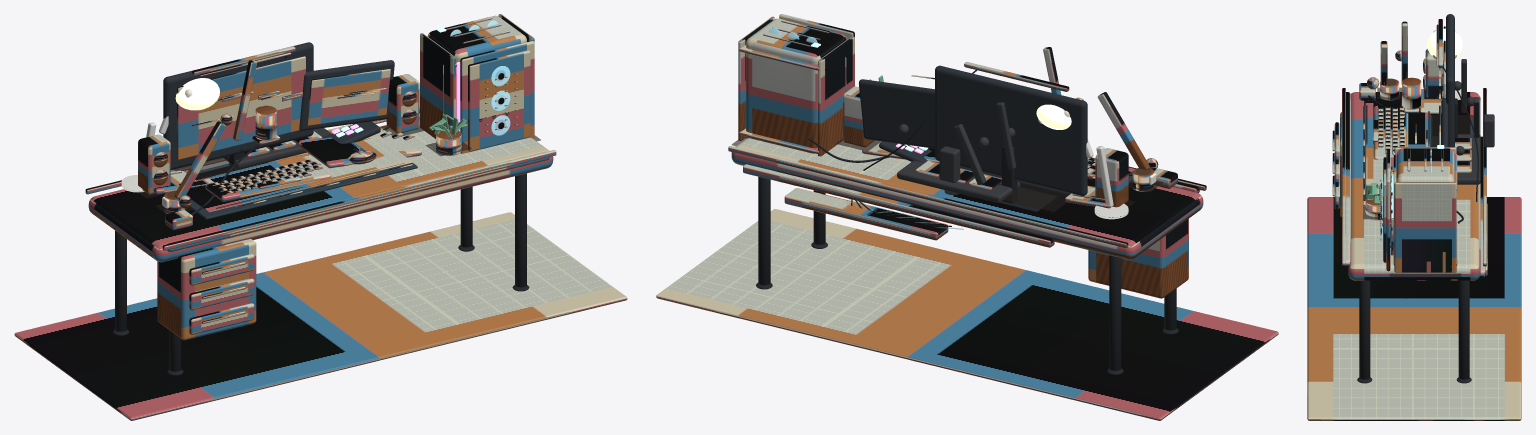
File: p2s_premium_workstation_hero_v4.glb
3 renders of one model, left to right at view 1: azimuth 30°, elevation 25°; view 2: azimuth 150°, elevation 25°; view 3: azimuth 270°, elevation 25°, orthographic. The views are drawn at different scales.
Parts seen in each view (by area): view 1: premium_workstation_v2_preview_floor_shadow_catcher, premium_workstation_oiled_oak_waterfall_top, premium_workstation_main_monitor_inner_screen, premium_workstation_left_lacquer_drawer_carcase, premium_workstation_v3_pc_front_deep_mesh_insert, premium_workstation_side_display_blue_screen, premium_workstation_v3_deskmat_top_charcoal_overlay, premium_workstation_main_monitor_outer_shell, premium_workstation_v2_pc_case_vertical_frame_0.94, premium_workstation_v2_oak_end_grain_band_0.51, premium_workstation_white_pc_case_body, premium_workstation_side_display_keyboard_deck (+22 smaller); view 2: premium_workstation_v2_preview_floor_shadow_catcher, premium_workstation_oiled_oak_waterfall_top, premium_workstation_main_monitor_outer_shell, premium_workstation_white_pc_case_body, premium_workstation_side_display_shell, premium_workstation_left_lacquer_drawer_carcase, premium_workstation_rear_black_cable_raceway, premium_workstation_v2_pc_case_vertical_frame_0.94, premium_workstation_v2_underdesk_mesh_cable_tray, premium_workstation_v2_oak_end_grain_band_-0.51, premium_workstation_v2_aluminum_monitor_riser_shelf, premium_workstation_tapered_black_steel_leg_-1.32_-0.36 (+12 smaller); view 3: premium_workstation_v2_preview_floor_shadow_catcher, premium_workstation_oiled_oak_waterfall_top, premium_workstation_v2_pc_case_vertical_frame_1.54, premium_workstation_white_pc_case_body, premium_workstation_v3_deskmat_top_charcoal_overlay, premium_workstation_tapered_black_steel_leg_1.32_-0.36, premium_workstation_tapered_black_steel_leg_1.32_0.36, premium_workstation_main_monitor_outer_shell, premium_workstation_oak_front_soft_bullnose, premium_workstation_low_profile_keyboard_body, premium_workstation_v2_oak_end_grain_band_0.51, premium_workstation_v2_aluminum_monitor_riser_shelf (+24 smaller).
Boxes of the visible parts, x1=… form: premium_workstation_v2_preview_floor_shadow_catcher: x1=14, y1=212, x2=627, y2=420; premium_workstation_oiled_oak_waterfall_top: x1=88, y1=117, x2=553, y2=262; premium_workstation_main_monitor_inner_screen: x1=177, y1=56, x2=305, y2=159; premium_workstation_left_lacquer_drawer_carcase: x1=157, y1=239, x2=256, y2=340; premium_workstation_v3_pc_front_deep_mesh_insert: x1=468, y1=50, x2=530, y2=151; premium_workstation_side_display_blue_screen: x1=307, y1=69, x2=390, y2=125; premium_workstation_v3_deskmat_top_charcoal_overlay: x1=186, y1=136, x2=412, y2=212; premium_workstation_main_monitor_outer_shell: x1=163, y1=42, x2=313, y2=169; premium_workstation_v2_pc_case_vertical_frame_0.94: x1=420, y1=33, x2=456, y2=138; premium_workstation_v2_oak_end_grain_band_0.51: x1=162, y1=150, x2=556, y2=250; premium_workstation_white_pc_case_body: x1=427, y1=15, x2=526, y2=61; premium_workstation_side_display_keyboard_deck: x1=298, y1=129, x2=421, y2=168; premium_workstation_v2_preview_floor_shadow_catcher: x1=656, y1=209, x2=1278, y2=420; premium_workstation_oiled_oak_waterfall_top: x1=731, y1=138, x2=1203, y2=259; premium_workstation_main_monitor_outer_shell: x1=935, y1=65, x2=1087, y2=195; premium_workstation_white_pc_case_body: x1=746, y1=18, x2=846, y2=153; premium_workstation_side_display_shell: x1=858, y1=79, x2=934, y2=148; premium_workstation_left_lacquer_drawer_carcase: x1=1088, y1=218, x2=1188, y2=298; premium_workstation_rear_black_cable_raceway: x1=743, y1=164, x2=1054, y2=247; premium_workstation_v2_pc_case_vertical_frame_0.94: x1=818, y1=36, x2=854, y2=156; premium_workstation_v2_underdesk_mesh_cable_tray: x1=784, y1=188, x2=948, y2=240; premium_workstation_v2_oak_end_grain_band_-0.51: x1=728, y1=146, x2=1128, y2=247; premium_workstation_v2_aluminum_monitor_riser_shelf: x1=897, y1=160, x2=1020, y2=202; premium_workstation_tapered_black_steel_leg_-1.32_-0.36: x1=1109, y1=255, x2=1121, y2=370; premium_workstation_v2_preview_floor_shadow_catcher: x1=1307, y1=197, x2=1521, y2=420; premium_workstation_oiled_oak_waterfall_top: x1=1348, y1=92, x2=1480, y2=280; premium_workstation_v2_pc_case_vertical_frame_1.54: x1=1394, y1=182, x2=1456, y2=272; premium_workstation_white_pc_case_body: x1=1396, y1=148, x2=1454, y2=181; premium_workstation_v3_deskmat_top_charcoal_overlay: x1=1365, y1=103, x2=1430, y2=194; premium_workstation_tapered_black_steel_leg_1.32_-0.36: x1=1458, y1=280, x2=1469, y2=379; premium_workstation_tapered_black_steel_leg_1.32_0.36: x1=1359, y1=280, x2=1370, y2=379; premium_workstation_main_monitor_outer_shell: x1=1446, y1=14, x2=1454, y2=146; premium_workstation_oak_front_soft_bullnose: x1=1344, y1=92, x2=1350, y2=266; premium_workstation_low_profile_keyboard_body: x1=1373, y1=105, x2=1408, y2=159; premium_workstation_v2_oak_end_grain_band_0.51: x1=1342, y1=88, x2=1345, y2=266; premium_workstation_v2_aluminum_monitor_riser_shelf: x1=1457, y1=134, x2=1480, y2=184.
Bounding box in the file's own units: 3.8 × 2.04 × 1.55.
Materials: 27 (1 with a texture image).
